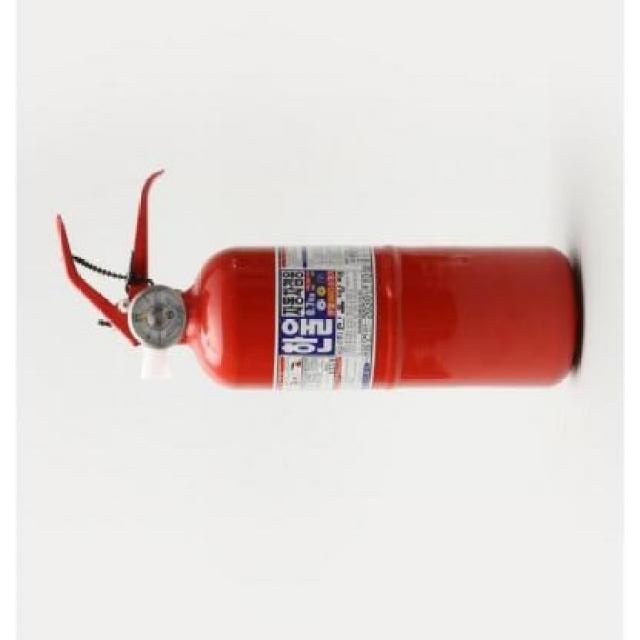fire extinguisher: (55, 168, 578, 392)
